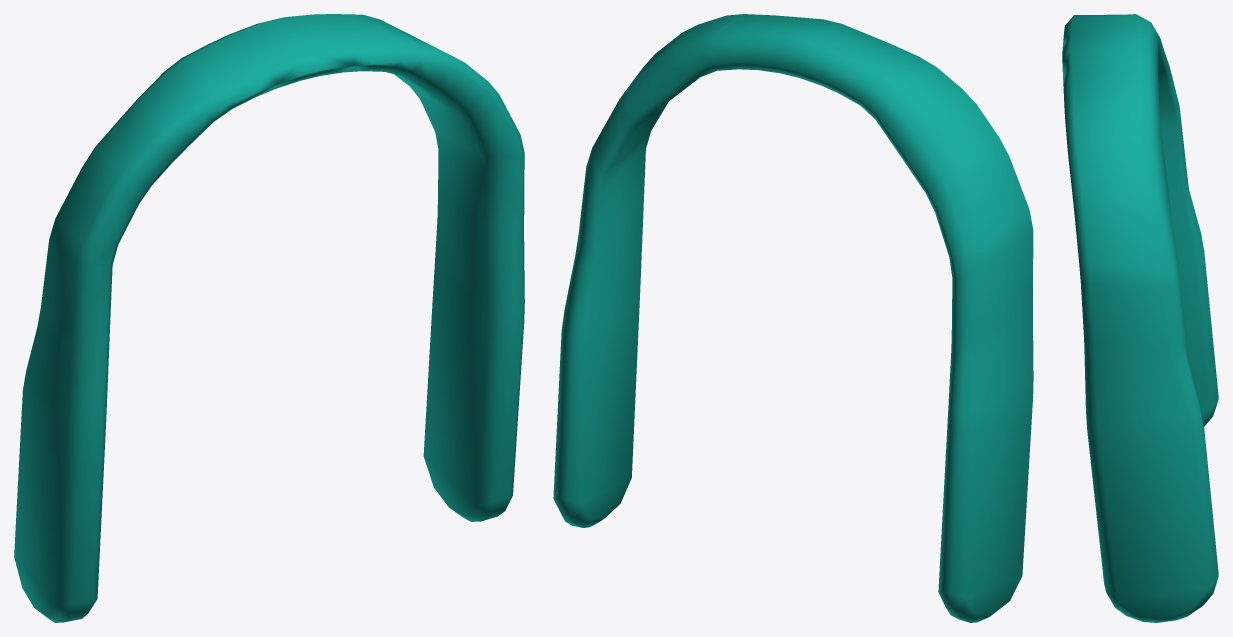
The picture shows the model from 3 angles, left to right: view 1: azimuth 30°, elevation 25°; view 2: azimuth 150°, elevation 25°; view 3: azimuth 270°, elevation 25°; orthographic projection. The views are drawn at different scales.
Bounding box in the file's own units: 0.1363 × 0.1582 × 0.0454.
